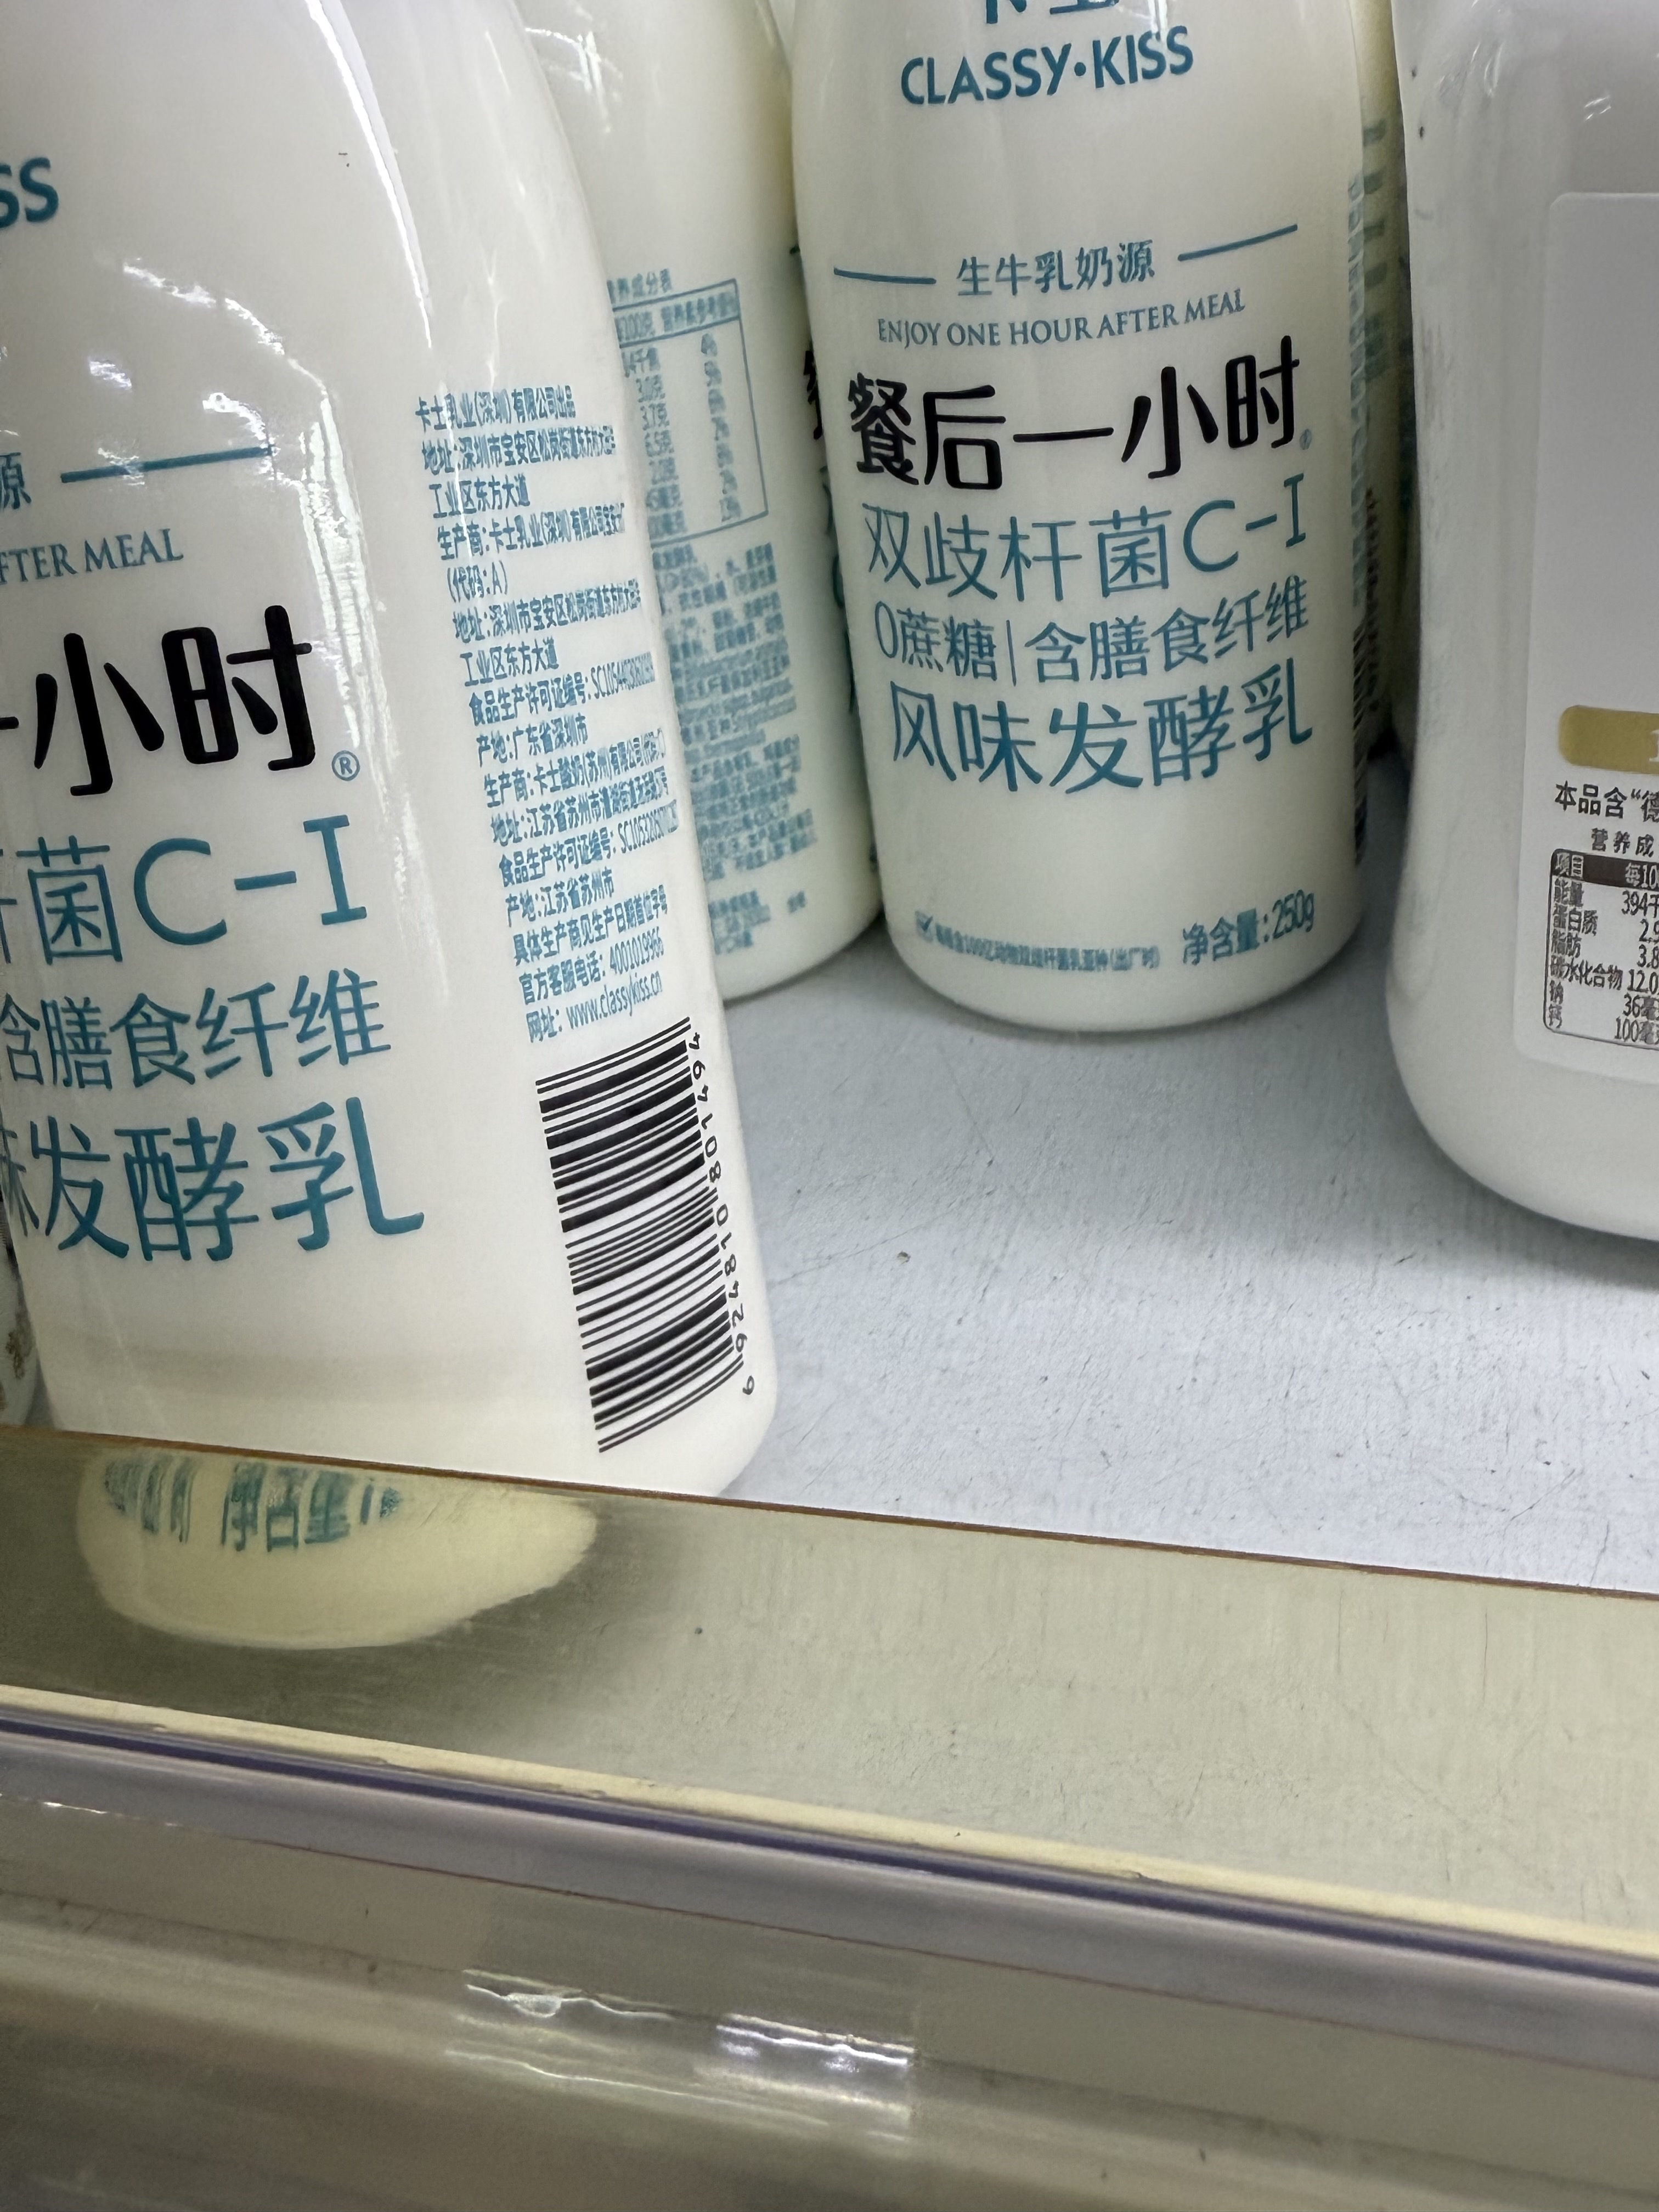bar: (532, 1008, 753, 1460)
